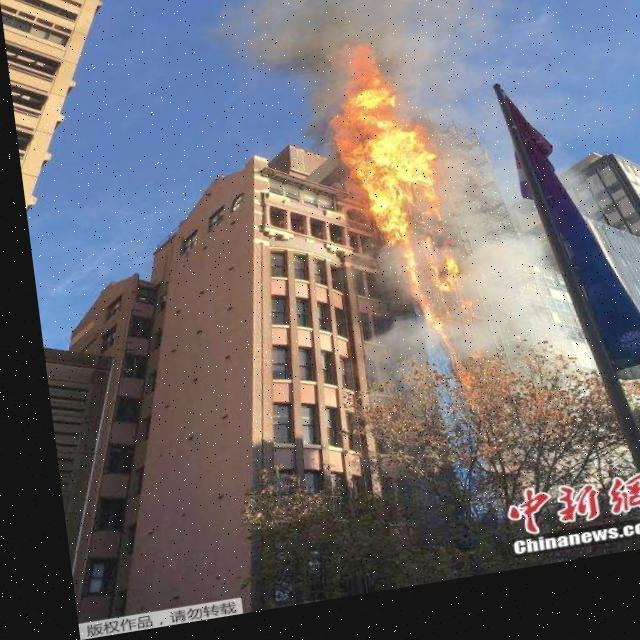Fire: (320, 41, 485, 394)
